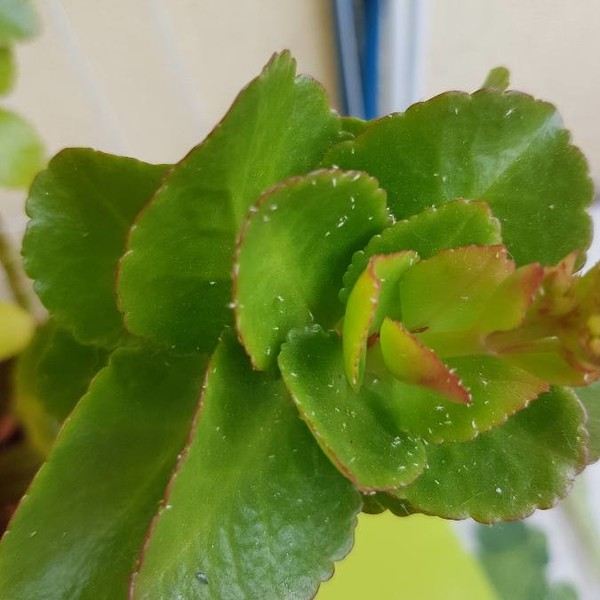obstacle: (16, 33, 570, 568)
